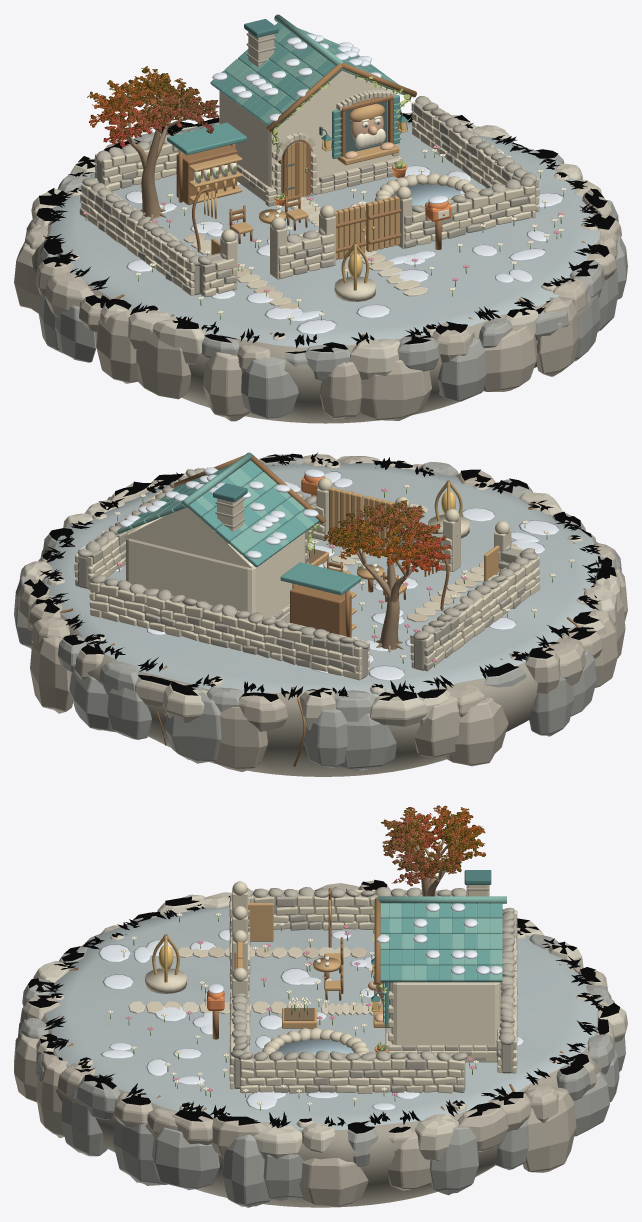
File: GardenArt-v1.fbx
3 renders of one model, top to bottom at view 1: azimuth 30°, elevation 25°; view 2: azimuth 150°, elevation 25°; view 3: azimuth 270°, elevation 25°, orthographic.
Visible parts, largest first — view 1: Ground_Surface, DetailBatch_V2_CliffWarm, DetailBatch_V2_Stone, DetailBatch_V2_CliffSlate, SpringCanopy, DetailBatch_V2_Rock, WinterSnow, DetailBatch_V2_CliffPale, DetailBatch_V2_Teal, DetailBatch_V2_Timber, DetailBatch_V2_Plaster, DetailBatch_V2_TealLight (+15 smaller); view 2: Ground_Surface, DetailBatch_V2_CliffWarm, DetailBatch_V2_CliffSlate, DetailBatch_V2_Stone, SpringCanopy, DetailBatch_V2_Rock, Solid_House, DetailBatch_V2_CliffPale, WinterSnow, DetailBatch_V2_Teal, DetailBatch_V2_TealLight, DetailBatch_V2_Plaster (+11 smaller); view 3: Ground_Surface, DetailBatch_V2_CliffSlate, DetailBatch_V2_CliffWarm, DetailBatch_V2_Stone, SpringCanopy, DetailBatch_V2_Rock, WinterSnow, Solid_House, DetailBatch_V2_CliffPale, DetailBatch_V2_Teal, DetailBatch_V2_TealLight, SpringFlowers (+9 smaller).
Part boxes in pixels (x1,y1,x2,y2): Ground_Surface: [31, 122, 600, 423]; DetailBatch_V2_CliffWarm: [14, 112, 621, 421]; DetailBatch_V2_Stone: [81, 32, 539, 305]; DetailBatch_V2_CliffSlate: [38, 126, 627, 418]; SpringCanopy: [37, 66, 615, 353]; DetailBatch_V2_Rock: [79, 33, 536, 284]; WinterSnow: [79, 34, 564, 334]; DetailBatch_V2_CliffPale: [31, 125, 601, 379]; DetailBatch_V2_Teal: [167, 23, 410, 158]; DetailBatch_V2_Timber: [70, 62, 587, 346]; DetailBatch_V2_Plaster: [271, 70, 398, 188]; DetailBatch_V2_TealLight: [224, 14, 401, 155]; Ground_Surface: [40, 462, 600, 776]; DetailBatch_V2_CliffWarm: [17, 454, 627, 771]; DetailBatch_V2_CliffSlate: [14, 454, 621, 770]; DetailBatch_V2_Stone: [74, 472, 540, 680]; SpringCanopy: [24, 452, 616, 701]; DetailBatch_V2_Rock: [75, 468, 537, 672]; Solid_House: [126, 516, 305, 618]; DetailBatch_V2_CliffPale: [19, 461, 621, 730]; WinterSnow: [78, 467, 559, 680]; DetailBatch_V2_Teal: [135, 460, 361, 595]; DetailBatch_V2_TealLight: [117, 452, 314, 554]; DetailBatch_V2_Plaster: [124, 507, 307, 568]; Ground_Surface: [41, 906, 601, 1207]; DetailBatch_V2_CliffSlate: [18, 914, 625, 1207]; DetailBatch_V2_CliffWarm: [14, 880, 614, 1206]; DetailBatch_V2_Stone: [145, 881, 517, 1093]; SpringCanopy: [28, 805, 619, 1133]; DetailBatch_V2_Rock: [229, 885, 517, 1093]; WinterSnow: [98, 903, 523, 1110]; Solid_House: [391, 982, 500, 1050]; DetailBatch_V2_CliffPale: [33, 892, 627, 1160]; DetailBatch_V2_Teal: [380, 903, 502, 1027]; DetailBatch_V2_TealLight: [377, 896, 506, 1023]; SpringFlowers: [107, 913, 478, 1111].
Size of the model in its own units: 1910 by 951 by 1908.
